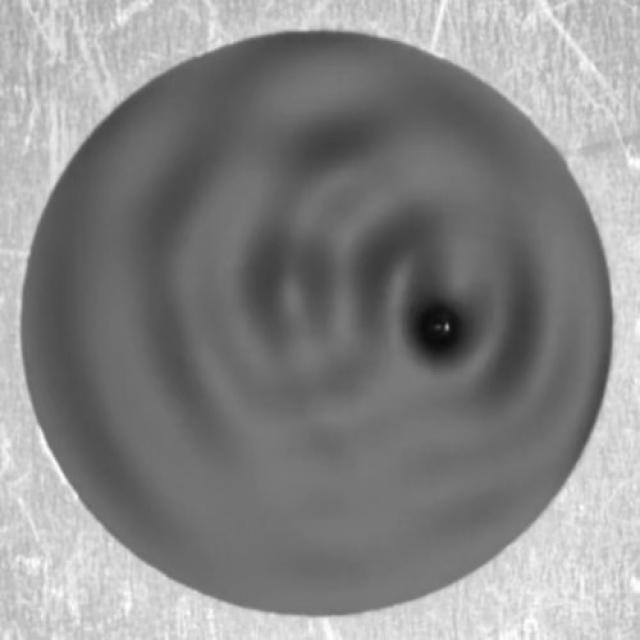droplet: (417, 301, 464, 354)
